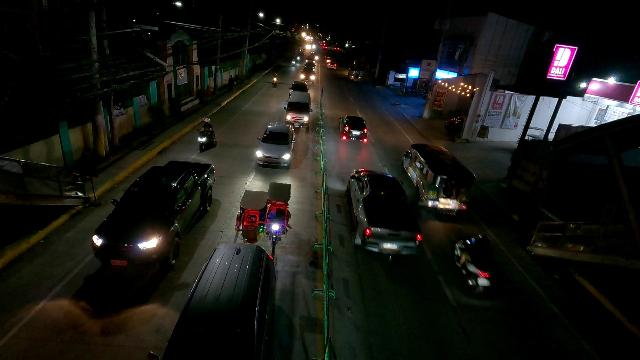car: (254, 121, 296, 170), (339, 115, 368, 146), (299, 65, 317, 84), (289, 80, 309, 94), (304, 62, 316, 72), (327, 61, 337, 70)
jeepney: (402, 142, 476, 215), (347, 67, 362, 80)
motorcycle: (452, 241, 494, 298), (196, 126, 216, 153), (271, 74, 278, 88), (296, 53, 301, 63), (291, 58, 296, 67)
pickup-truck: (90, 159, 219, 270), (346, 168, 422, 255)
van: (285, 91, 312, 131)
